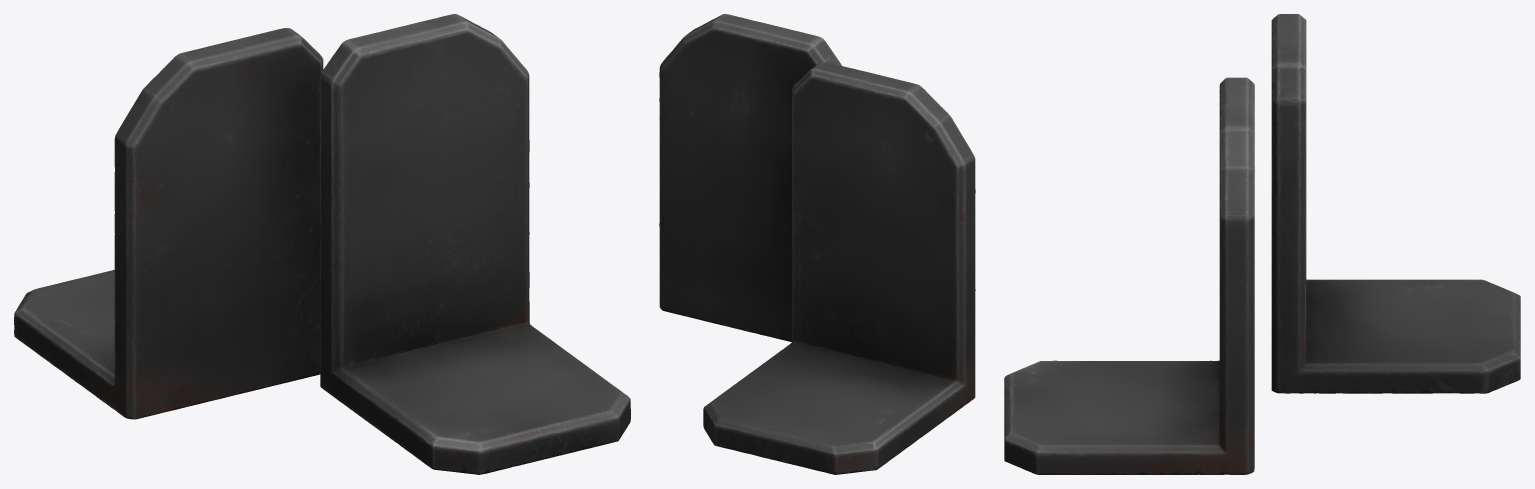
The model's file is library_Bookends.glb.
3 renders of one model, left to right at view 1: azimuth 30°, elevation 25°; view 2: azimuth 150°, elevation 25°; view 3: azimuth 270°, elevation 25°, orthographic. The views are drawn at different scales.
Visible parts, largest first — view 1: world; view 2: world; view 3: world.
Boxes of the visible parts, x1,y1,x2,y2 form: world: (14,14,630,474); world: (659,14,975,474); world: (1004,14,1520,474).
Bounding box in the file's own units: 0.7875 × 0.6828 × 1.
1 material, 1 textured.
